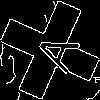A: (25, 25, 81, 74)
